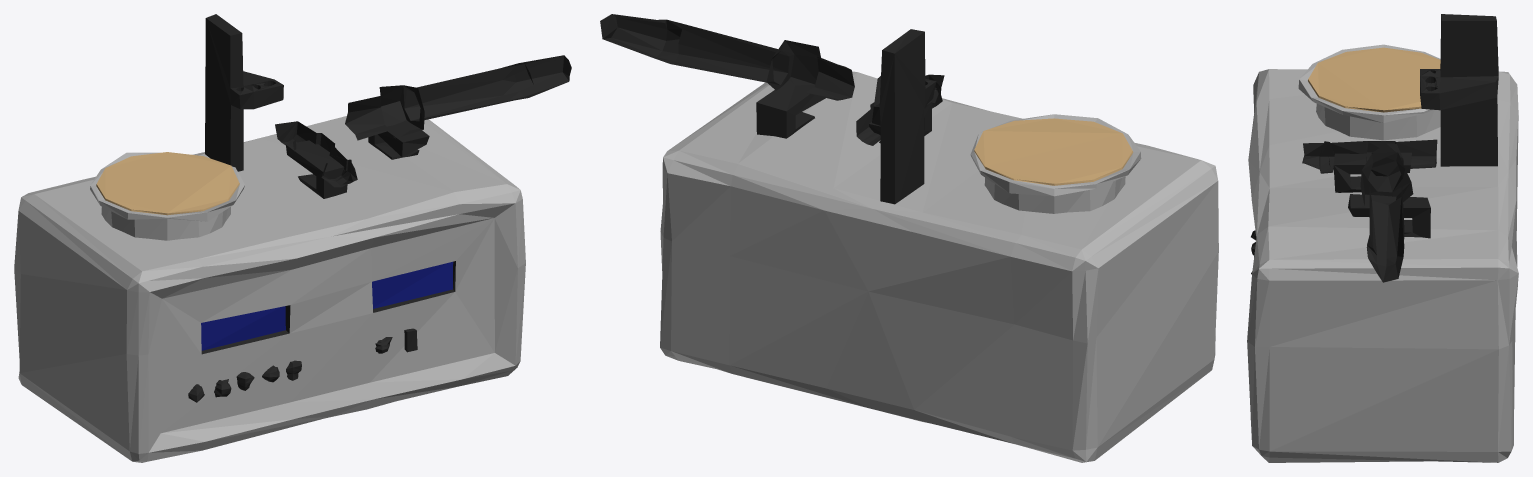
File: clarus.glb
3 renders of one model, left to right at view 1: azimuth 30°, elevation 25°; view 2: azimuth 150°, elevation 25°; view 3: azimuth 270°, elevation 25°, orthographic. The views are drawn at different scales.
Parts seen in each view (by area): view 1: clarus; view 2: clarus; view 3: clarus.
Boxes of the visible parts, x1,y1,x2,y2 form: clarus: [14, 14, 571, 462]; clarus: [600, 14, 1218, 462]; clarus: [1247, 14, 1518, 462].
Size of the model in its own units: 28.05 by 17.7 by 12.5.
1 material, 1 textured.
